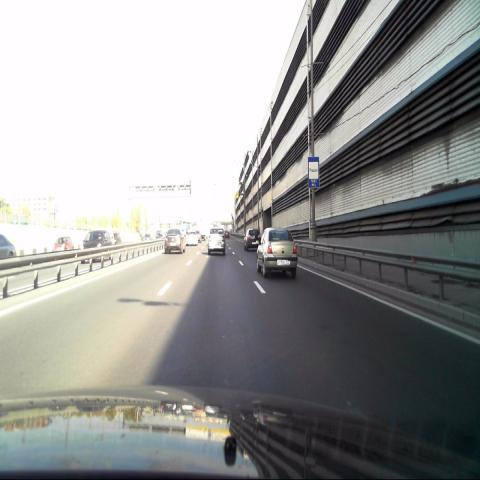7_15: (308, 157, 319, 187)
